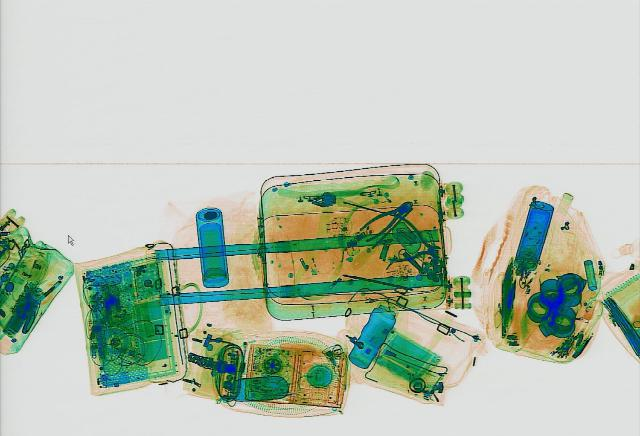Pliers: (368, 216, 456, 270), (350, 196, 420, 242)
